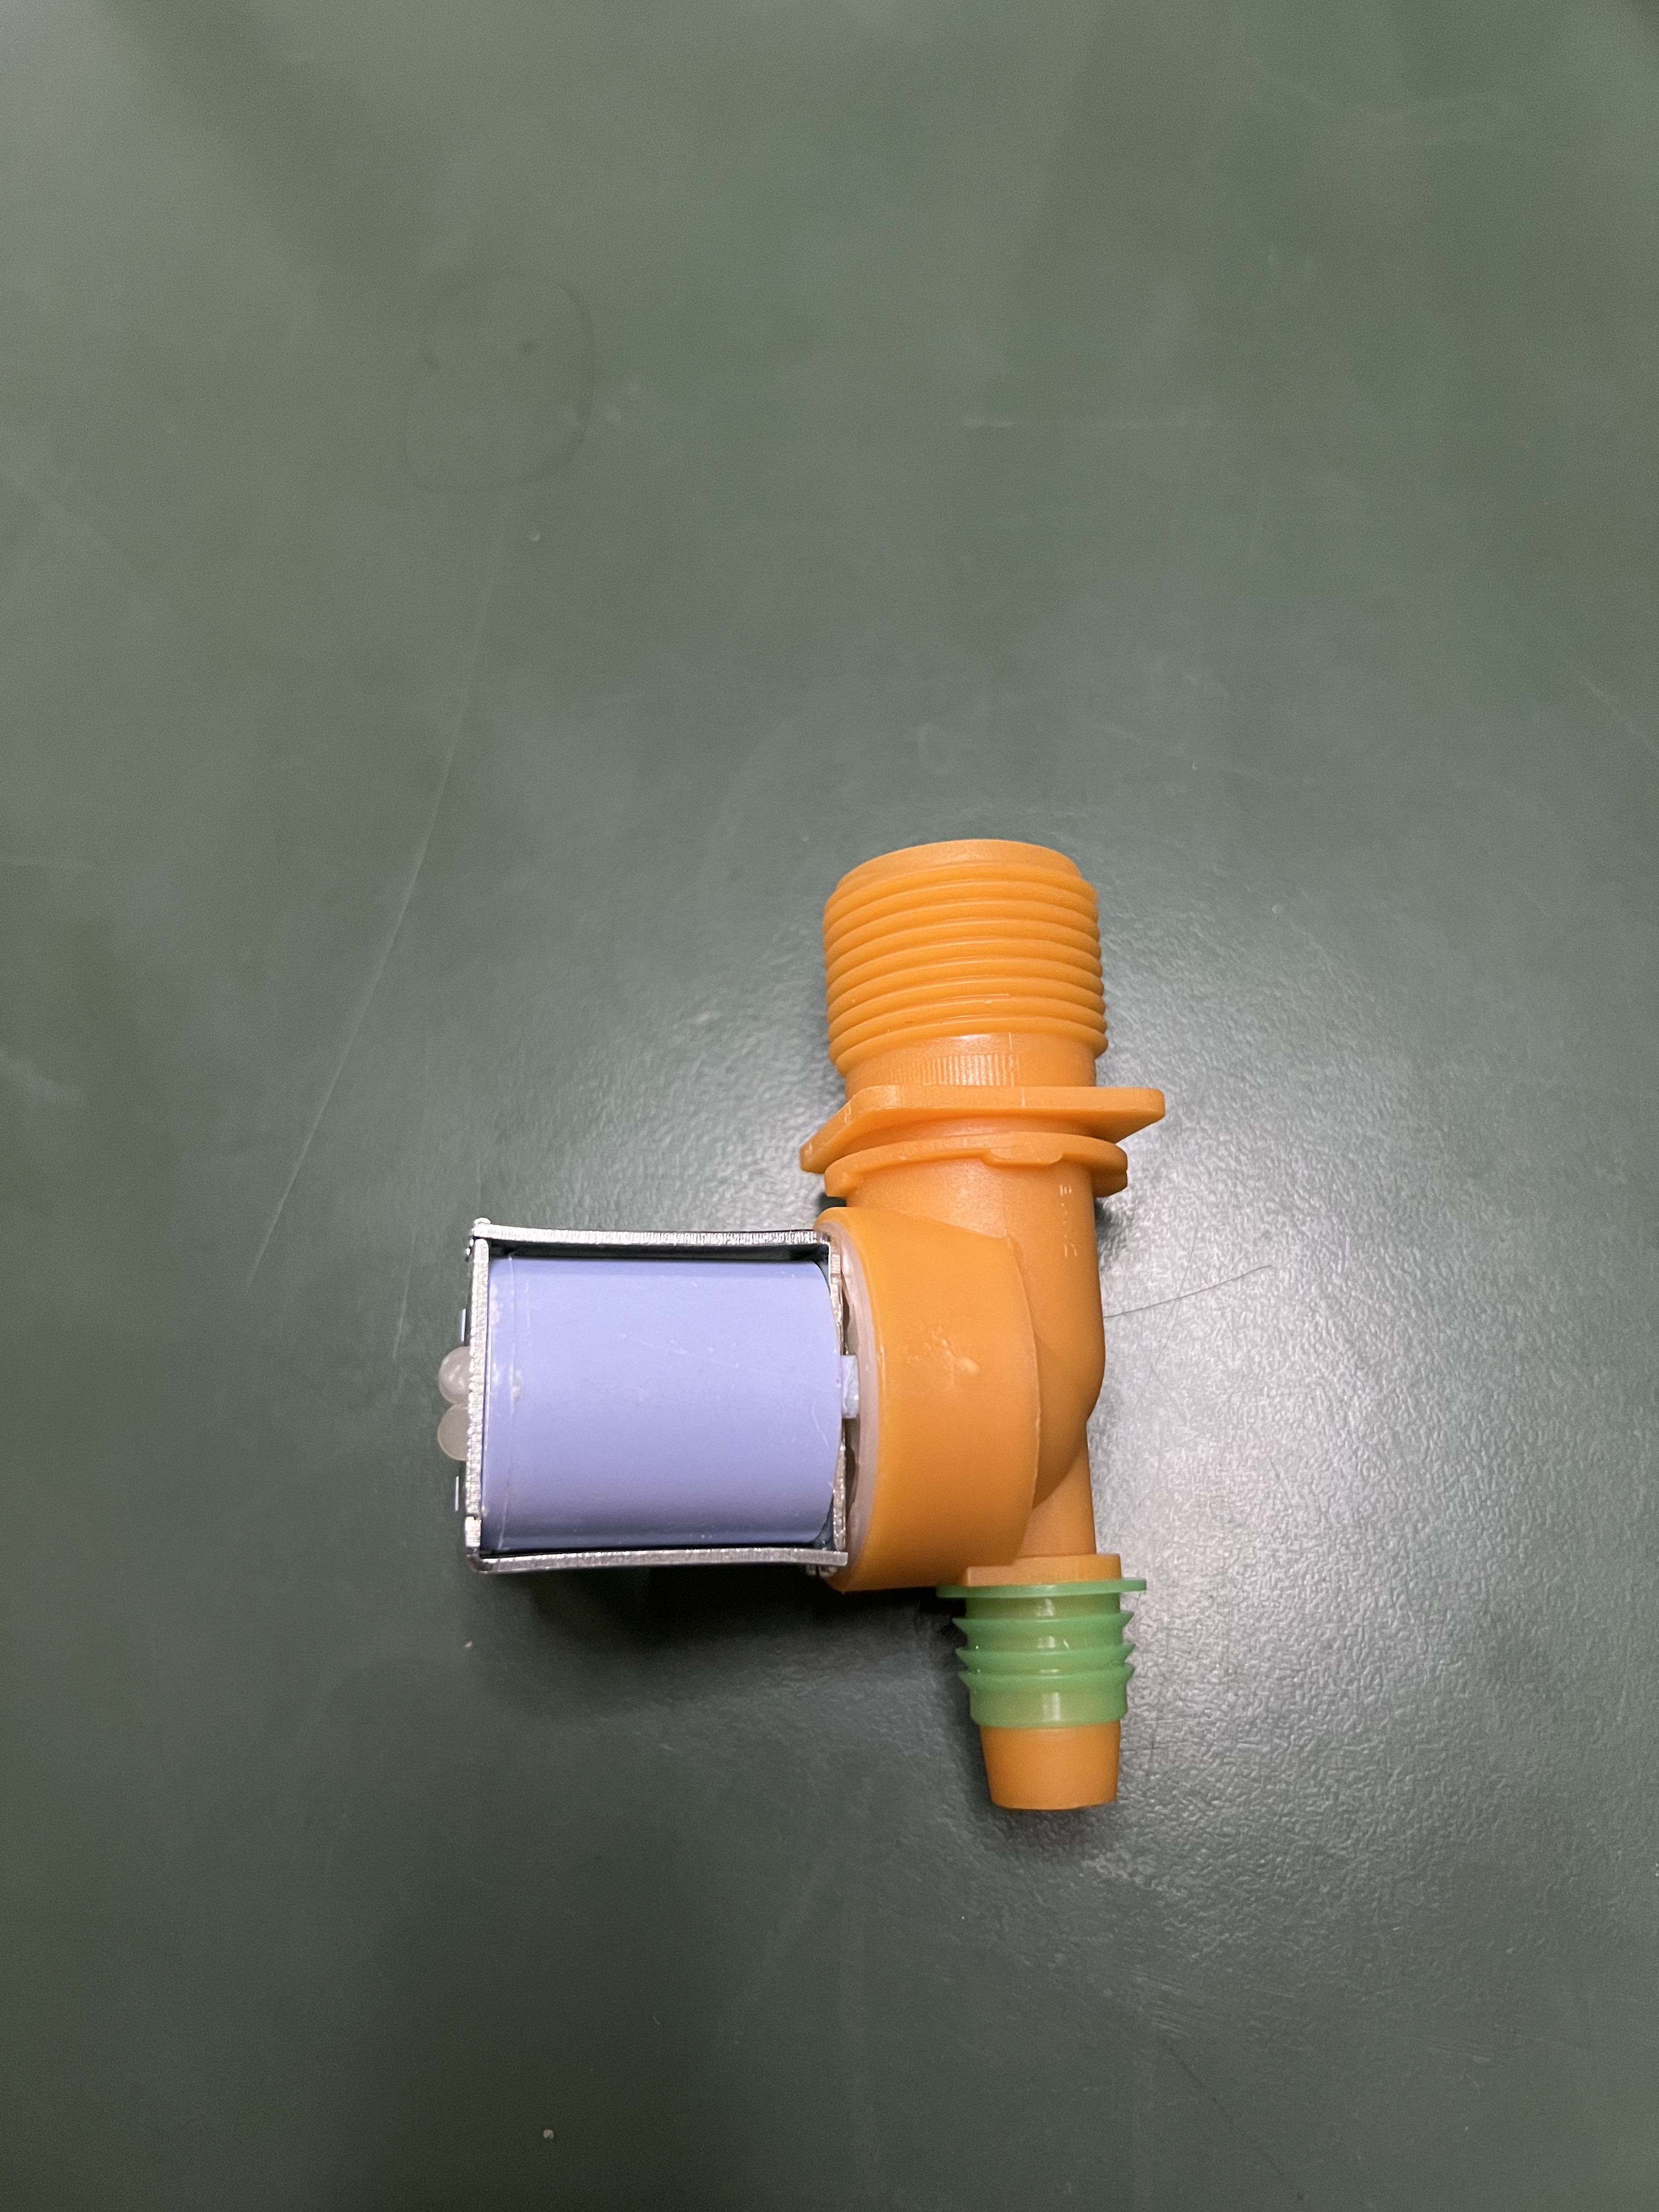ss_inlet_valves: (437, 860, 1358, 1872)
